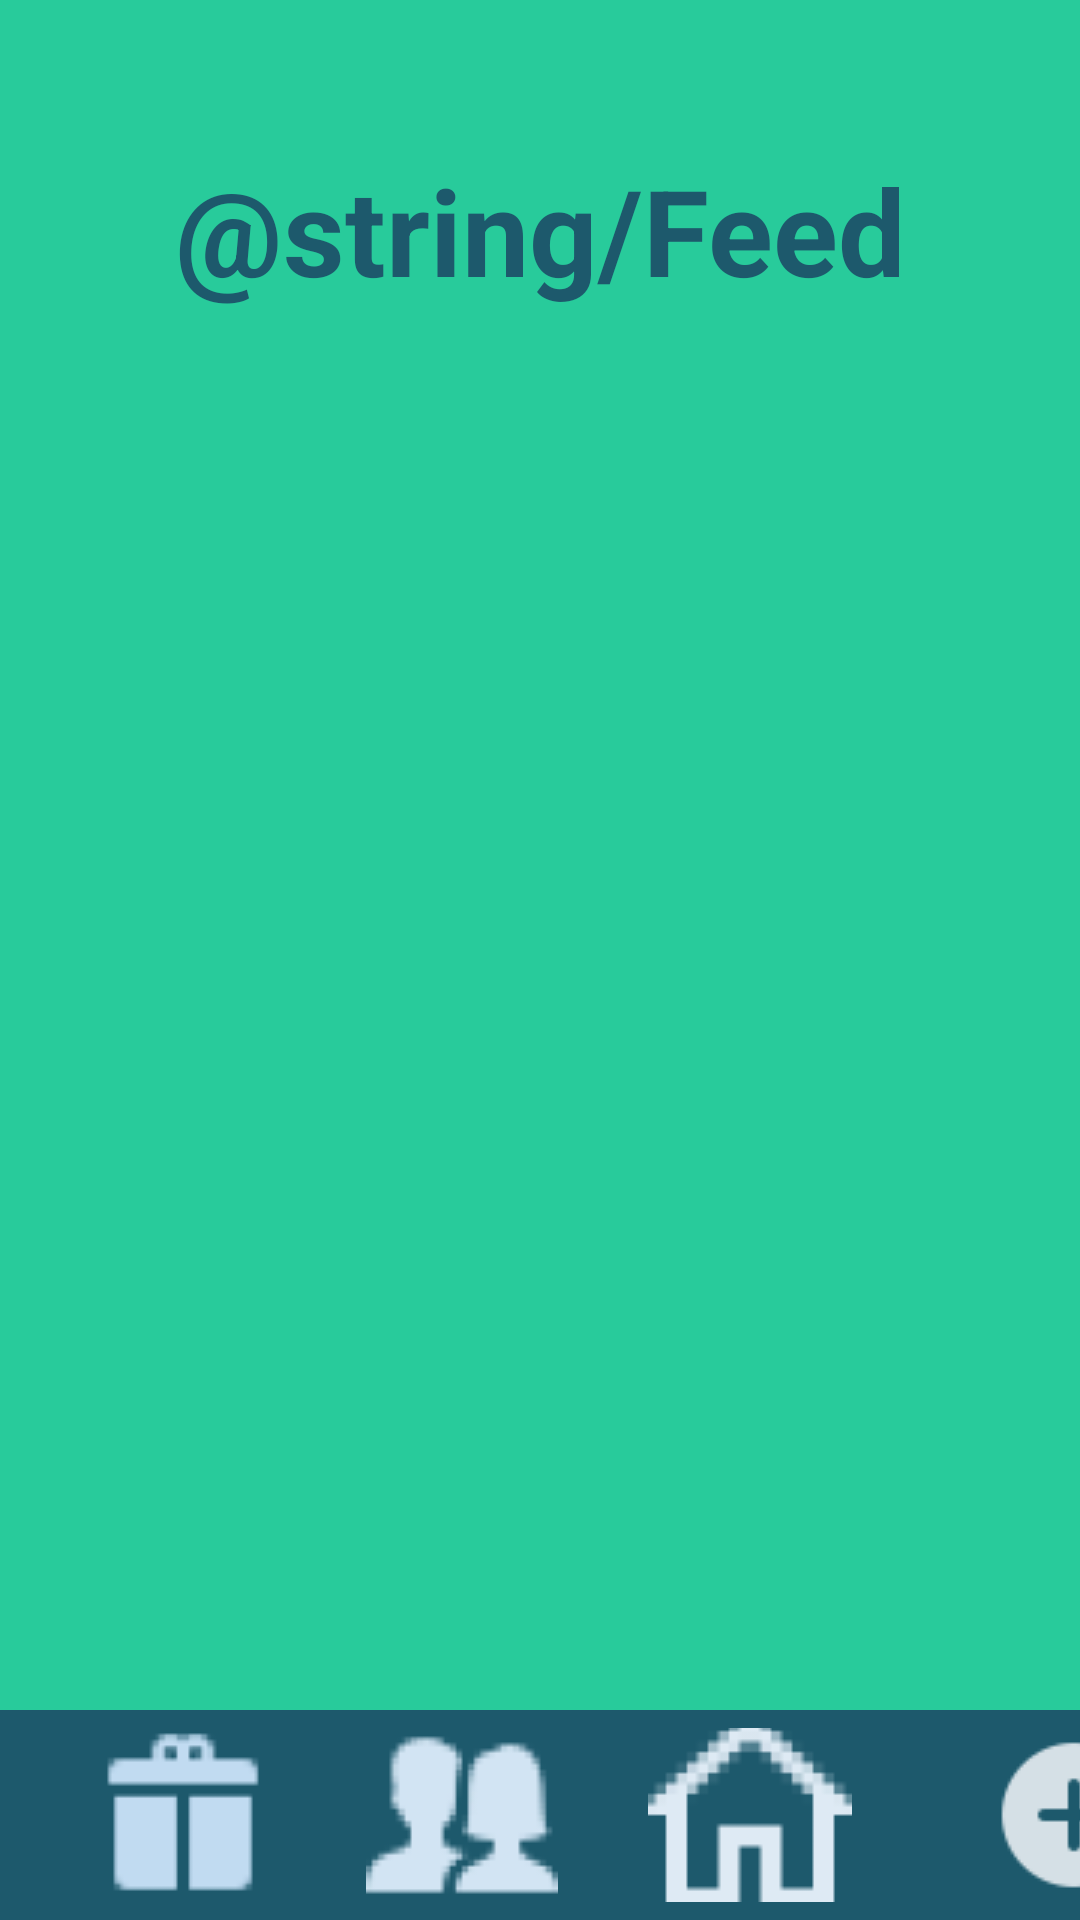

Icon click points for this 1080 × 1920 phone screenshot, format (x,y):
casa: (750,1815)
persones: (462,1815)
regal: (183,1812)
